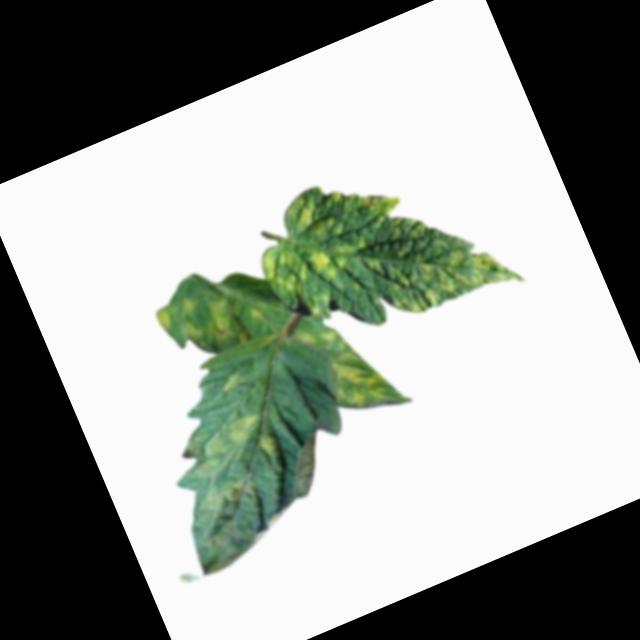Leaf_Mold: (241, 129, 525, 373), (171, 406, 296, 526), (309, 311, 412, 431), (152, 275, 252, 369), (215, 366, 248, 398)
